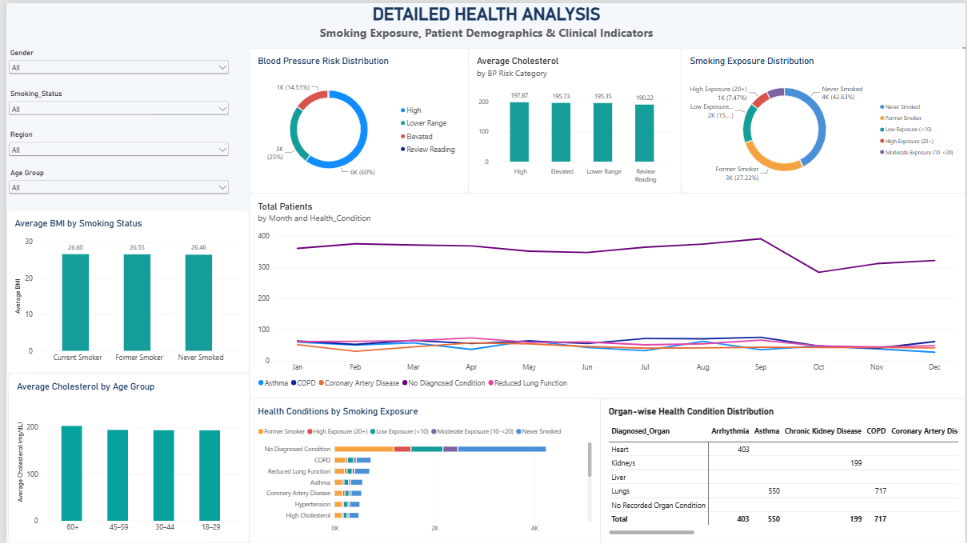

The page's visual inventory and layout, read from the dashboard file:
{"tool":"powerbi","page":{"name":"Detailed Health Analysis","canvas":[1920,1080],"ordinal":2},"visuals":[{"type":"textbox","box":[10,0,280,280],"z":0},{"type":"textbox","title":"DETAILED HEALTH ANALYSIS","box":[0,0,1920,90],"z":1000},{"type":"slicer","fields":{"Values":["PatientData.Smoking_Status"]},"box":[0,172,450,82],"z":2000},{"type":"slicer","fields":{"Values":["PatientData.Region"]},"box":[0,254,450,82],"z":3000},{"type":"slicer","fields":{"Values":["PatientData.Gender"]},"box":[0,90,450,82],"z":4000},{"type":"slicer","fields":{"Values":["PatientData.Age Group"]},"box":[0,330,450,84],"z":5000},{"type":"donutChart","title":"\tSmoking Exposure Distribution","fields":{"Category":["PatientData.Smoking Exposure Category"],"Y":["PatientData.Total Patients"]},"box":[1350,90,570,290],"z":6000},{"type":"clusteredColumnChart","title":"Average BMI by Smoking Status","fields":{"Category":["PatientData.Smoking_Status"],"Y":["PatientData.Average BMI"]},"box":[0,414,486,326],"z":7000},{"type":"clusteredColumnChart","title":"Average Cholesterol by Age Group","fields":{"Category":["PatientData.Age Group"],"Y":["PatientData.Average Cholesterol"]},"box":[4,740,482,340],"z":8000},{"type":"donutChart","title":"\tBlood Pressure Risk Distribution","fields":{"Category":["PatientData.BP Risk Category"],"Y":["PatientData.Total Patients"]},"box":[486,90,438,290],"z":9000},{"type":"barChart","title":"\tHealth Conditions by Smoking Exposure","fields":{"Category":["PatientData.Health_Condition"],"Series":["PatientData.Smoking Exposure Category"],"Y":["PatientData.Total Patients"]},"box":[486,790,702,290],"z":10000},{"type":"lineChart","fields":{"Category":["DateTable.Month"],"Series":["PatientData.Health_Condition"],"Y":["PatientData.Total Patients"]},"box":[486,380,1434,410],"z":11000},{"type":"clusteredColumnChart","fields":{"Category":["PatientData.BP Risk Category"],"Y":["PatientData.Average Cholesterol"]},"box":[924,90,426,290],"z":12000},{"type":"pivotTable","title":"Organ-wise Health Condition Distribution","fields":{"Columns":["PatientData.Health_Condition"],"Rows":["PatientData.Diagnosed_Organ"],"Values":["PatientData.Total Patients"]},"box":[1188,790,732,290],"z":13000}]}

Visuals, with their boxes in screenshot pixels (x1, y1, x2, y2), scaled from the page's 1920x1080 canvas onto the 967x543 screenshot:
textbox: box(5, 0, 146, 141)
"DETAILED HEALTH ANALYSIS" textbox: box(0, 0, 966, 45)
slicer - PatientData.Smoking_Status: box(0, 86, 227, 128)
slicer - PatientData.Region: box(0, 128, 227, 169)
slicer - PatientData.Gender: box(0, 45, 227, 86)
slicer - PatientData.Age Group: box(0, 166, 227, 208)
"	Smoking Exposure Distribution" donutChart: box(680, 45, 966, 191)
"Average BMI by Smoking Status" clusteredColumnChart: box(0, 208, 245, 372)
"Average Cholesterol by Age Group" clusteredColumnChart: box(2, 372, 245, 542)
"	Blood Pressure Risk Distribution" donutChart: box(245, 45, 465, 191)
"	Health Conditions by Smoking Exposure" barChart: box(245, 397, 598, 542)
lineChart - DateTable.Month x PatientData.Health_Condition: box(245, 191, 966, 397)
clusteredColumnChart - PatientData.BP Risk Category x PatientData.Average Cholesterol: box(465, 45, 680, 191)
"Organ-wise Health Condition Distribution" pivotTable: box(598, 397, 966, 542)
